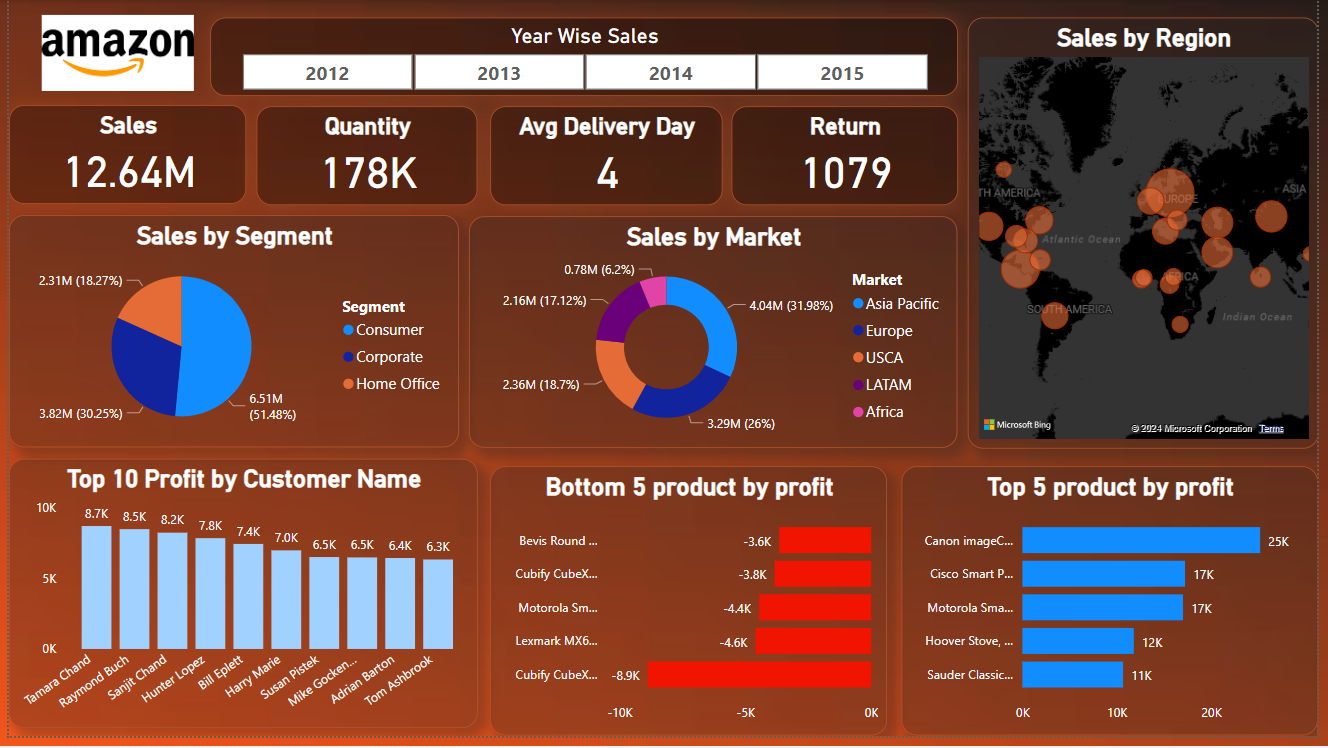

Layout of this report page (visuals, bound fields, positions):
{"tool":"powerbi","page":{"name":"Page 1","canvas":[1280,720],"ordinal":0},"visuals":[{"type":"slicer","title":"Year Wise Sales","fields":{"Values":["Orders.Year"]},"box":[196.8,17.1,731,77],"z":0},{"type":"image","box":[0,9.8,212.7,84.3],"z":1000},{"type":"card","title":"Sales","fields":{"Values":["Sum(Orders.Sales)"]},"box":[0,102.7,232.3,96.6],"z":2000},{"type":"card","title":"Quantity","fields":{"Values":["Sum(Orders.Quantity)"]},"box":[242,103.9,216.4,96.6],"z":3000},{"type":"card","title":"Avg Delivery Day","fields":{"Values":["Avg(Orders.Delivery_day)"]},"box":[470.6,103.9,227.4,96.6],"z":4000},{"type":"card","title":"Return","fields":{"Values":["CountNonNull(Returns.Order ID)"]},"box":[706.6,103.9,221.3,96.6],"z":5000},{"type":"pieChart","title":"Sales by Segment","fields":{"Y":["Sum(Orders.Sales)"],"Category":["Orders.Segment"]},"box":[0,210.3,440.1,227.4],"z":6000},{"type":"donutChart","title":"Sales by Market","fields":{"Y":["Sum(Orders.Sales)"],"Category":["Orders.Market"]},"box":[450.3,212,477.6,226.3],"z":6001},{"type":"columnChart","title":"Top 10 Profit by Customer Name","fields":{"Category":["Orders.Customer Name"],"Y":["Sum(Orders.Profit)"]},"box":[0,448.6,458.4,262.8],"z":6002},{"type":"clusteredBarChart","title":"Bottom 5 product by profit","fields":{"Category":["Orders.Product Name"],"Y":["Sum(Orders.Profit)"]},"box":[470.5,456.2,388.3,263.2],"z":6003},{"type":"clusteredBarChart","title":"Top 5 product by profit","fields":{"Category":["Orders.Product Name"],"Y":["Sum(Orders.Profit)"]},"box":[873.1,456.2,407.4,263.2],"z":6004},{"type":"map","title":"Sales by Region","fields":{"Size":["Sum(Orders.Sales)"],"Category":["Orders.Region"]},"box":[937.4,16.7,343,421.7],"z":6005}]}

Visuals, with their boxes in screenshot pixels (x1, y1, x2, y2), scaled from the page's 1280x720 canvas onto the 1328x748 screenshot:
"Year Wise Sales" slicer: <bbox>204, 18, 963, 98</bbox>
image: <bbox>0, 10, 221, 98</bbox>
"Sales" card: <bbox>0, 107, 241, 207</bbox>
"Quantity" card: <bbox>251, 108, 476, 208</bbox>
"Avg Delivery Day" card: <bbox>488, 108, 724, 208</bbox>
"Return" card: <bbox>733, 108, 963, 208</bbox>
"Sales by Segment" pieChart: <bbox>0, 218, 457, 455</bbox>
"Sales by Market" donutChart: <bbox>467, 220, 963, 455</bbox>
"Top 10 Profit by Customer Name" columnChart: <bbox>0, 466, 476, 739</bbox>
"Bottom 5 product by profit" clusteredBarChart: <bbox>488, 474, 891, 747</bbox>
"Top 5 product by profit" clusteredBarChart: <bbox>906, 474, 1327, 747</bbox>
"Sales by Region" map: <bbox>973, 17, 1327, 455</bbox>
